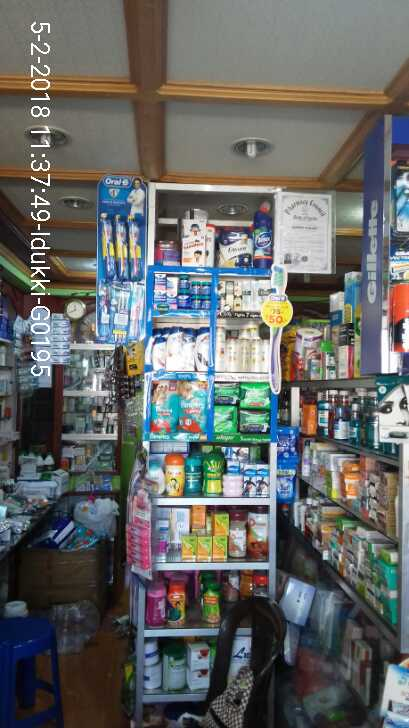oralcare: (95, 176, 143, 345), (316, 389, 332, 439), (348, 402, 364, 449)
vicks: (154, 274, 212, 312)
